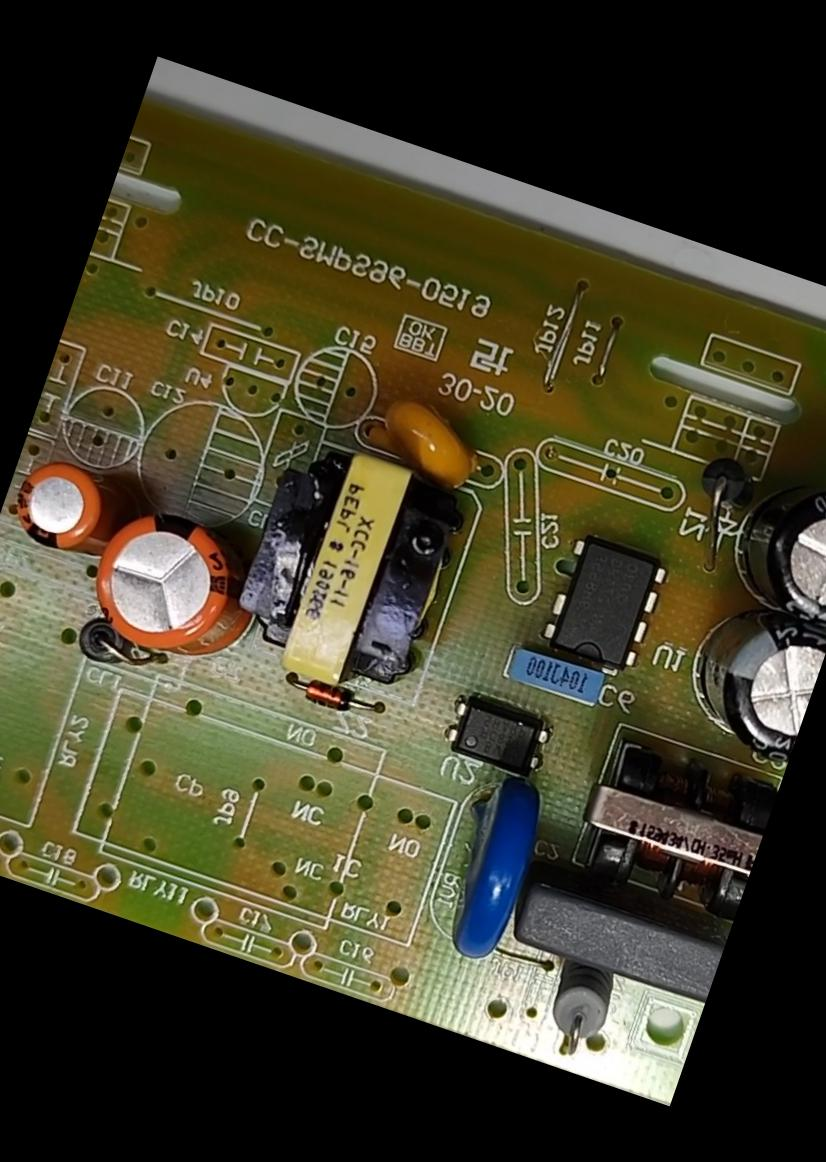Cap1: (47, 475, 277, 705)
Cap2: (0, 432, 127, 569)
Cap3: (681, 595, 825, 774)
Cap4: (691, 430, 825, 628)
MOSFET: (515, 512, 687, 696)
Mov: (416, 746, 572, 971)
Resistor: (504, 948, 654, 1078)
Transformer: (189, 394, 509, 734), (527, 678, 792, 939)
